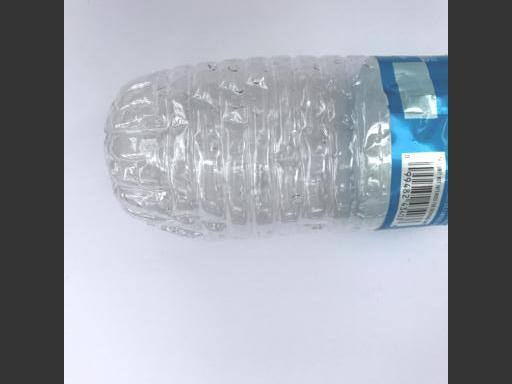bottle: (101, 48, 448, 246)
